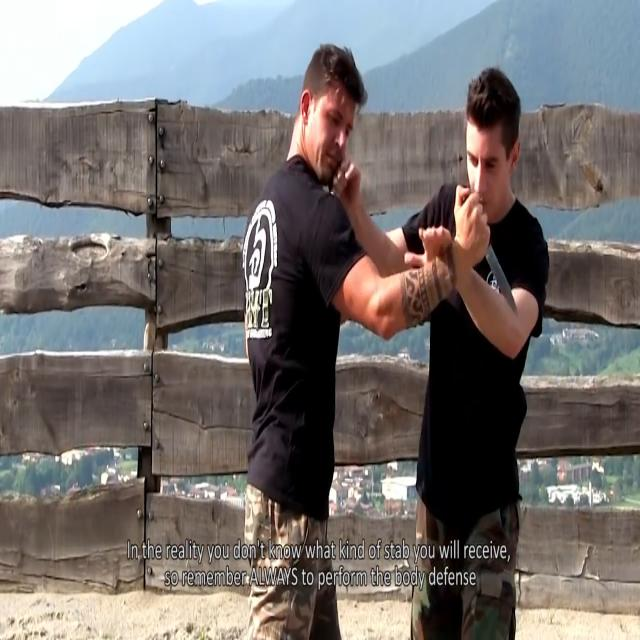knife: (487, 246, 523, 321)
